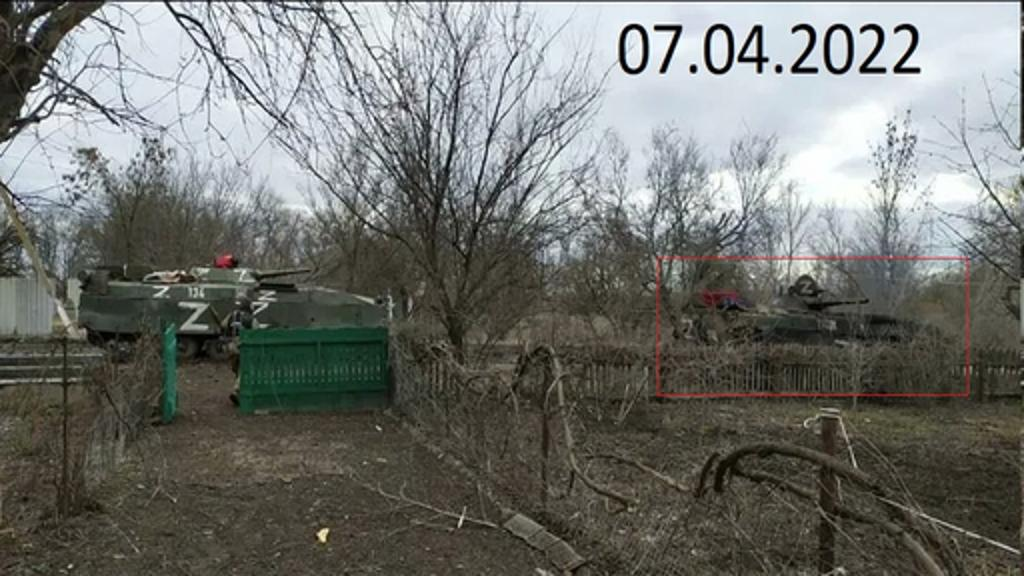APC-IFV: (74, 260, 394, 362), (668, 274, 958, 378)
